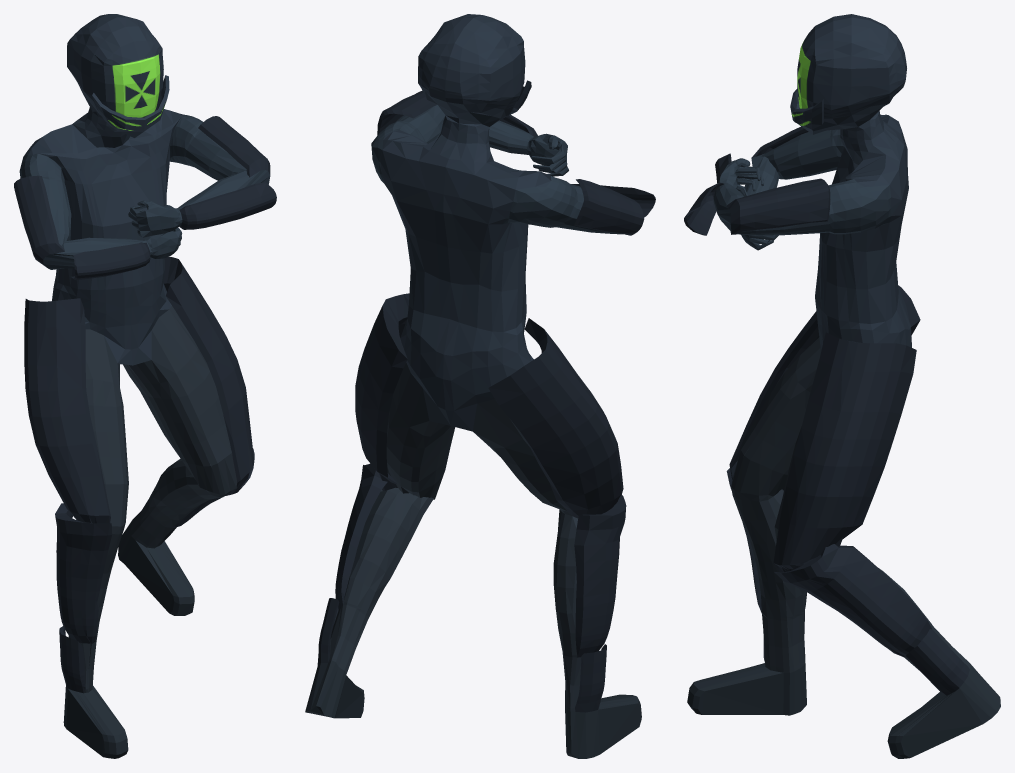
Rendered from Bastion_WB_000019.obj.
3 renders of one model, left to right at view 1: azimuth 30°, elevation 25°; view 2: azimuth 150°, elevation 25°; view 3: azimuth 270°, elevation 25°, orthographic. The views are drawn at different scales.
Visible parts, largest first — view 1: Cube.002; view 2: Cube.002; view 3: Cube.002.
Boxes of the visible parts, x1,y1,x2,y2 form: Cube.002: (14, 14, 276, 758); Cube.002: (305, 14, 655, 758); Cube.002: (684, 14, 1000, 758).
Bounding box in the file's own units: 1.38 × 3.73 × 1.47.
